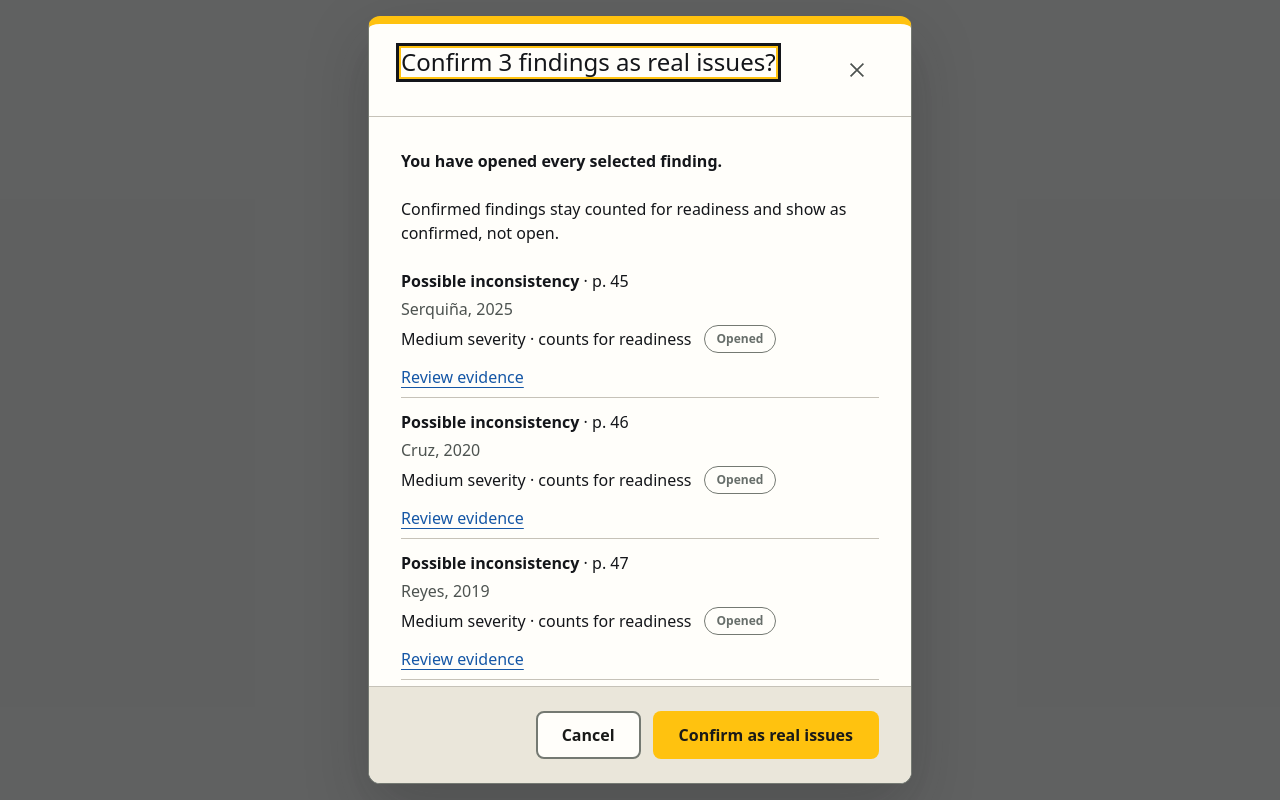
Test case: bulk confirm and dismiss › says a refusal of the selection once for the dialog, never at the comment
Click the button "Confirm as real issues" at [766, 735], box [653,711,879,759]
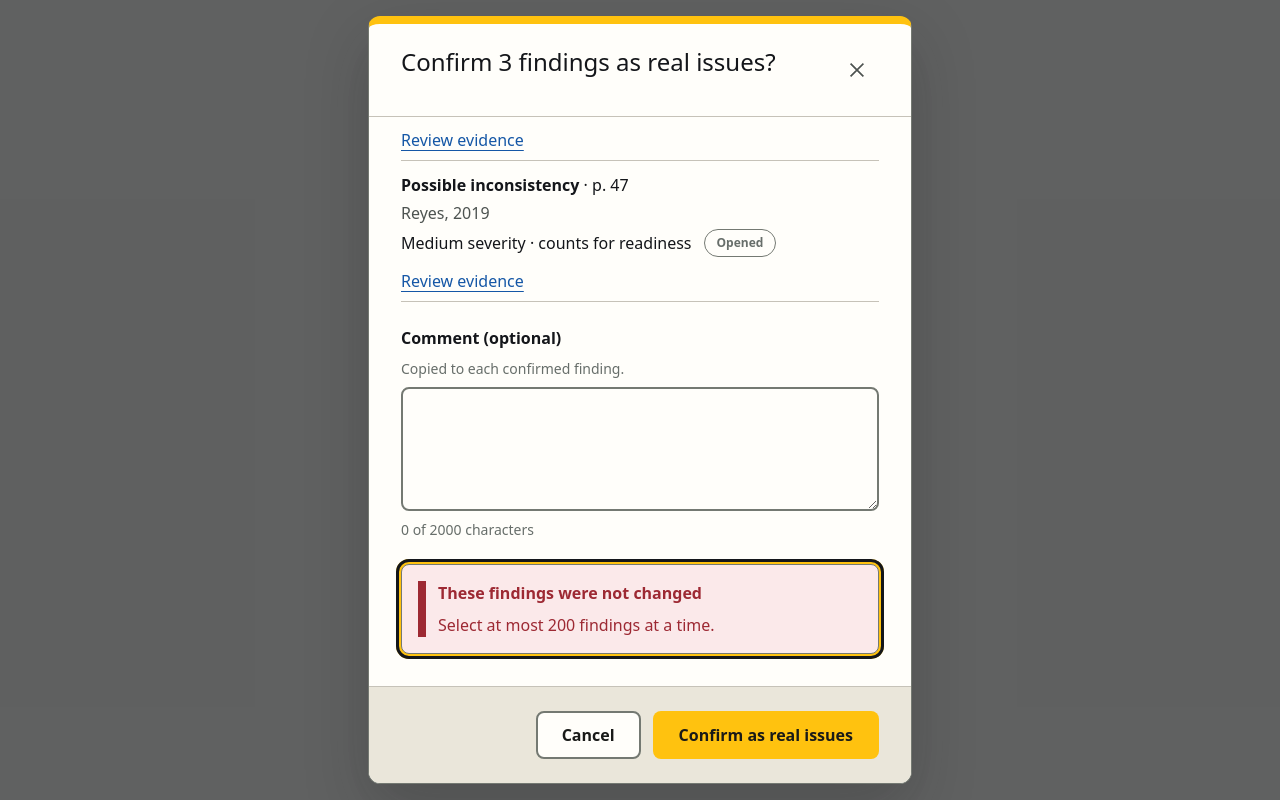
Now the text "Select at most 200 findings at a time." is shown, box [438,614,715,636]
